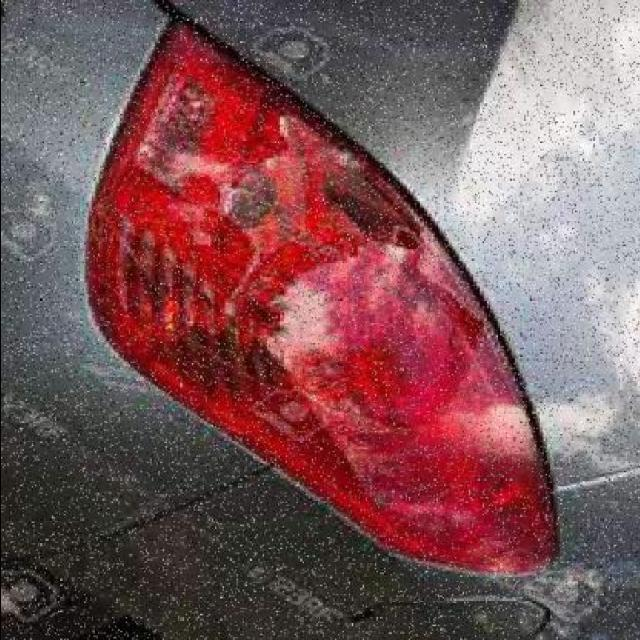Taillight-Damage: (98, 3, 588, 594)
